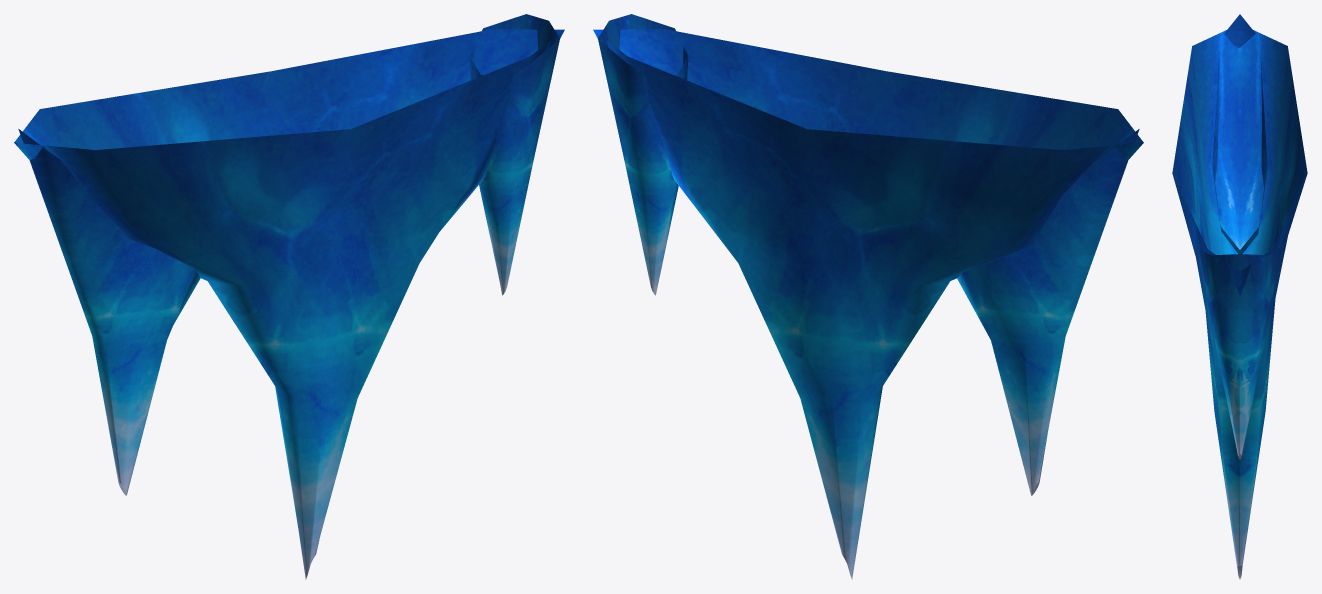
The model's file is SM_Town012_Ice.FBX.
3 views of the same model, side by side, from view 1: azimuth 30°, elevation 25°; view 2: azimuth 150°, elevation 25°; view 3: azimuth 270°, elevation 25° (orthographic). The views are drawn at different scales.
Parts seen in each view (by area): view 1: SM_Town012_Ice; view 2: SM_Town012_Ice; view 3: SM_Town012_Ice.
Boxes of the visible parts, bbox=[...] form: SM_Town012_Ice: bbox=[14, 14, 564, 579]; SM_Town012_Ice: bbox=[593, 14, 1143, 579]; SM_Town012_Ice: bbox=[1172, 14, 1307, 579].
Bounding box in the file's own units: 319 × 288 × 79.31.
Materials: 1 (1 with a texture image).
